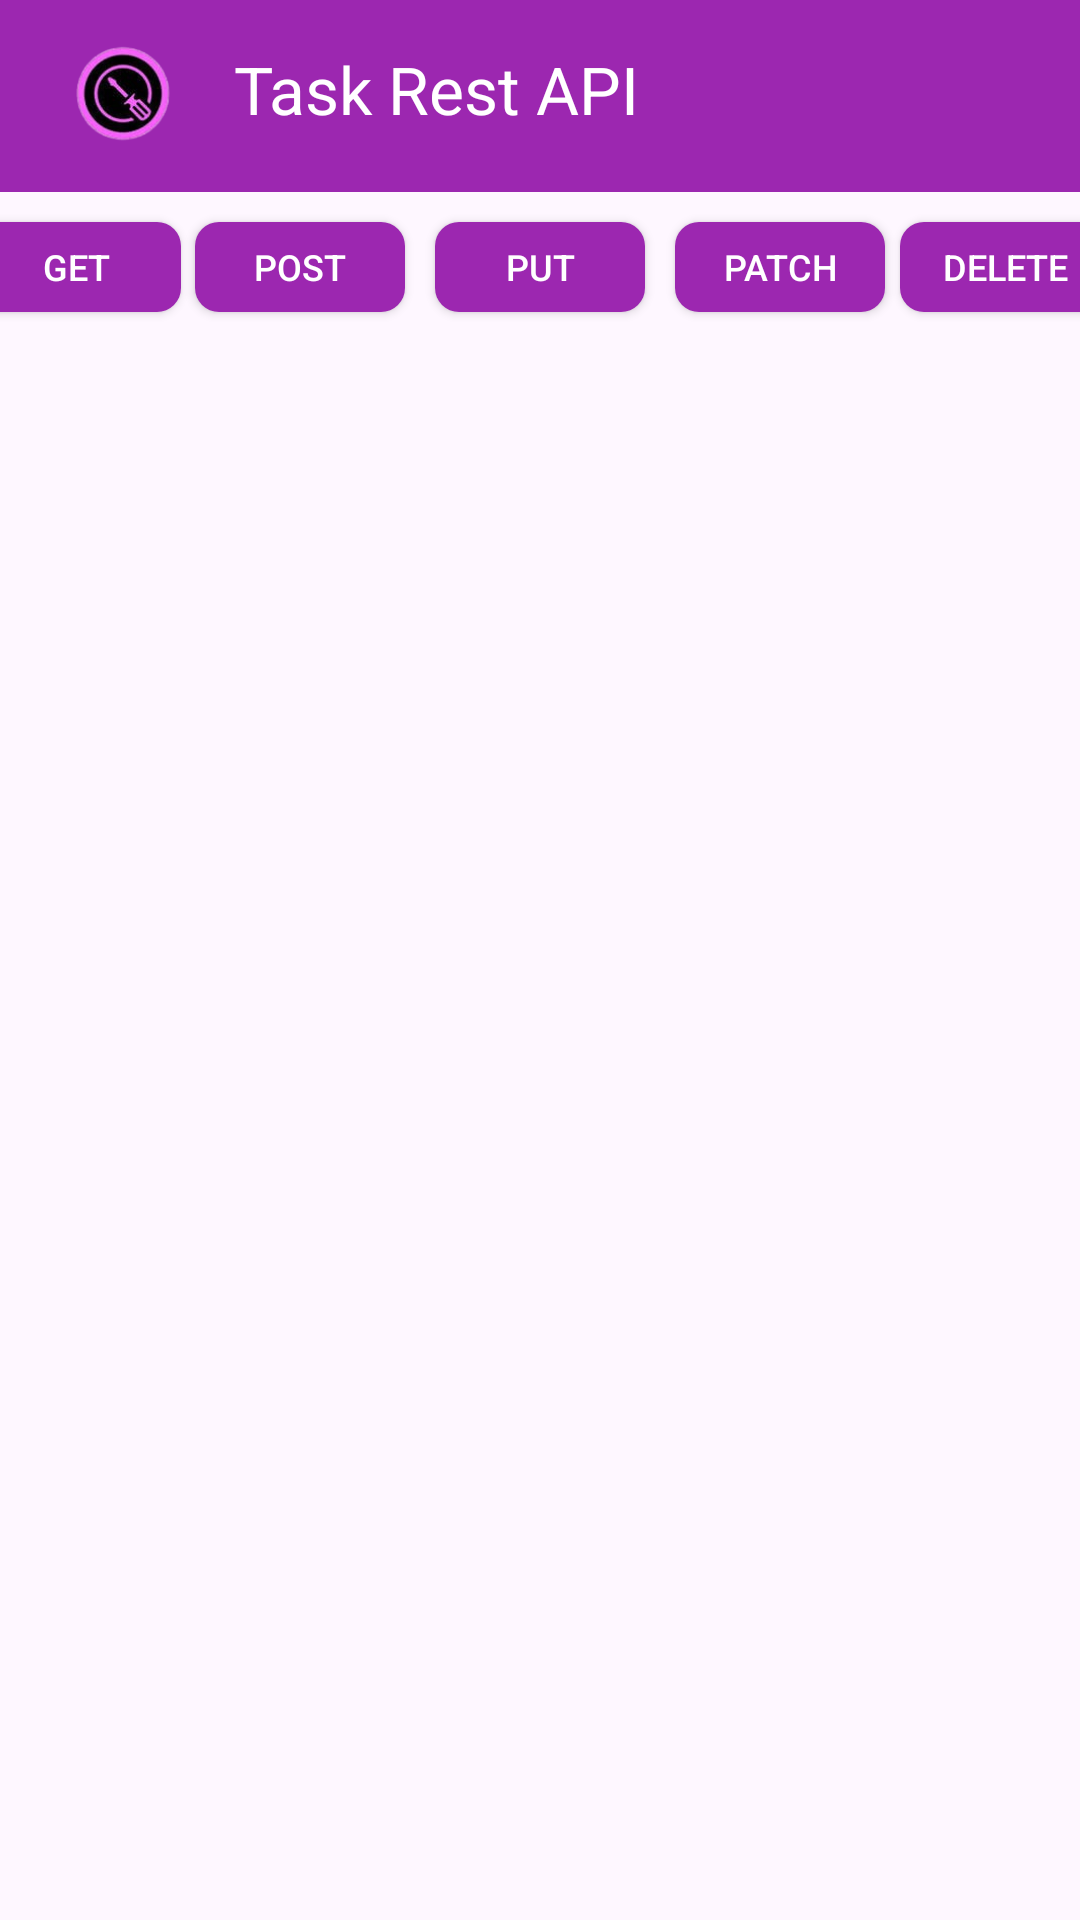

Where icons sit on this 1080 x 1920 app screen, as (x1, y1, x2, y2):
retrofit: (76, 47, 169, 140)
